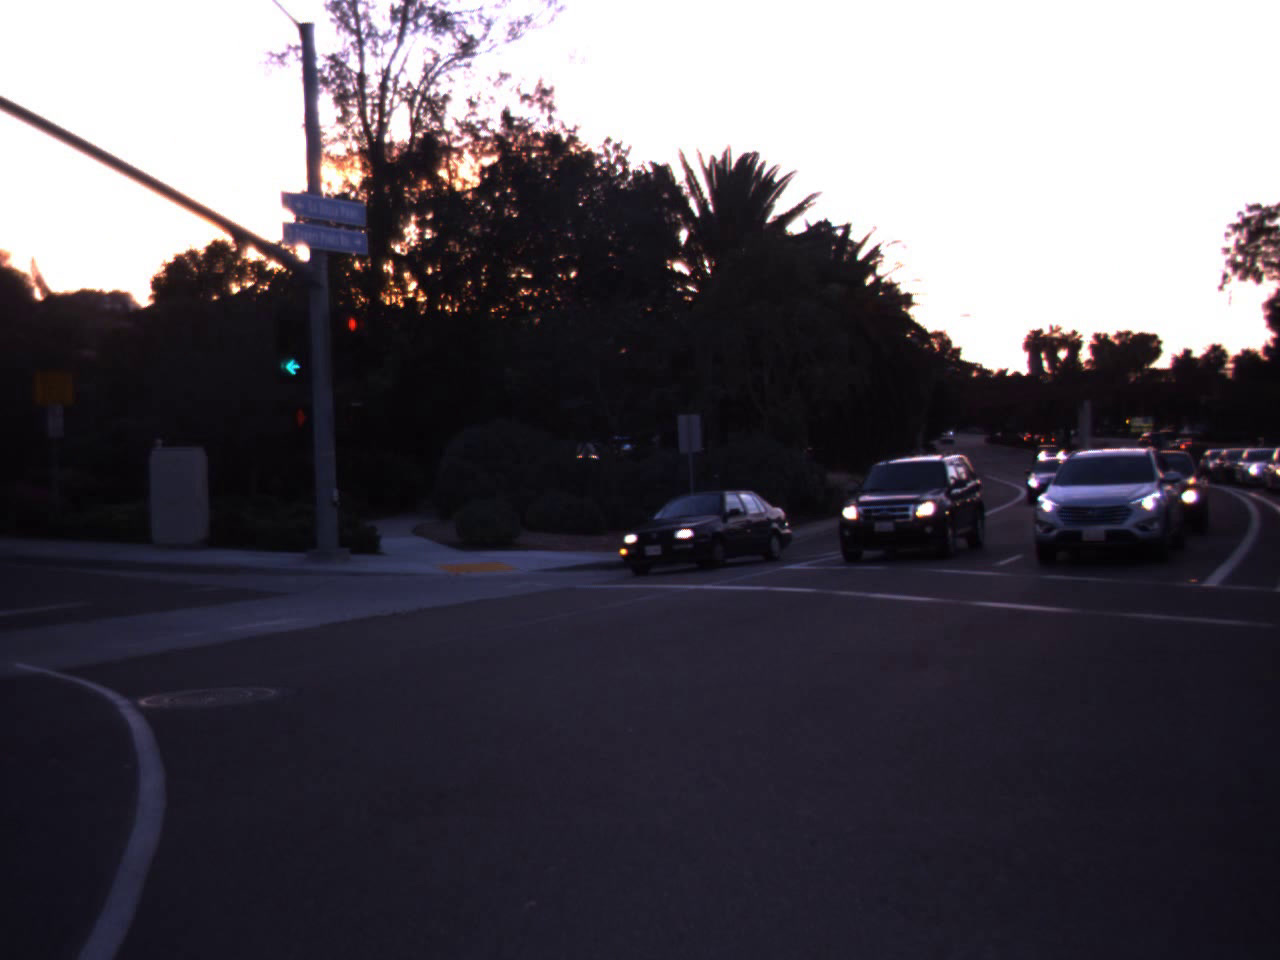go: (262, 294, 322, 384)
